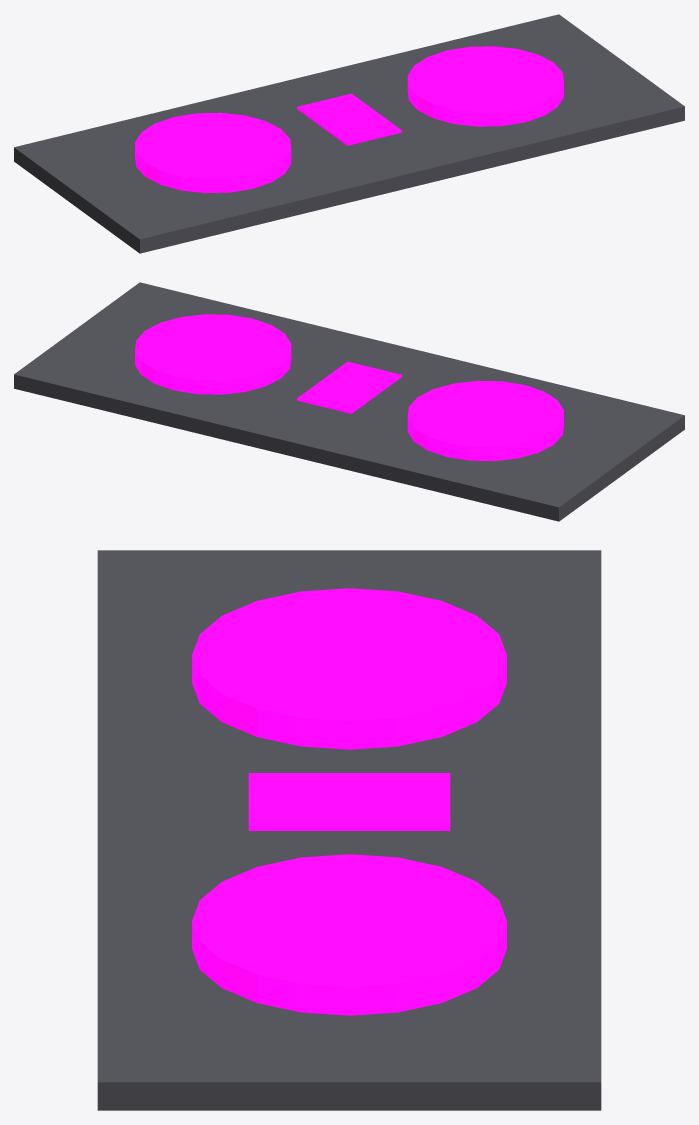
File: env_modern_djconsole.glb
3 views of the same model, one above another, from view 1: azimuth 30°, elevation 25°; view 2: azimuth 150°, elevation 25°; view 3: azimuth 270°, elevation 25° (orthographic). The views are drawn at different scales.
Parts seen in each view (by area): view 1: Cube, Cylinder.001, Cylinder, Cube.001; view 2: Cube, Cylinder.001, Cylinder, Cube.001; view 3: Cube, Cylinder, Cylinder.001, Cube.001.
Boxes of the visible parts, box(x1,y1,x2,y2) form: Cube: box(14, 14, 684, 253); Cylinder.001: box(407, 46, 563, 126); Cylinder: box(135, 112, 291, 193); Cube.001: box(297, 93, 401, 145); Cube: box(14, 282, 684, 521); Cylinder.001: box(135, 314, 291, 394); Cylinder: box(407, 380, 563, 461); Cube.001: box(297, 361, 401, 413); Cube: box(97, 550, 601, 1110); Cylinder: box(192, 588, 506, 749); Cylinder.001: box(192, 854, 506, 1015); Cube.001: box(248, 773, 450, 830).
Size of the model in its own units: 2 by 0.1 by 0.8.
